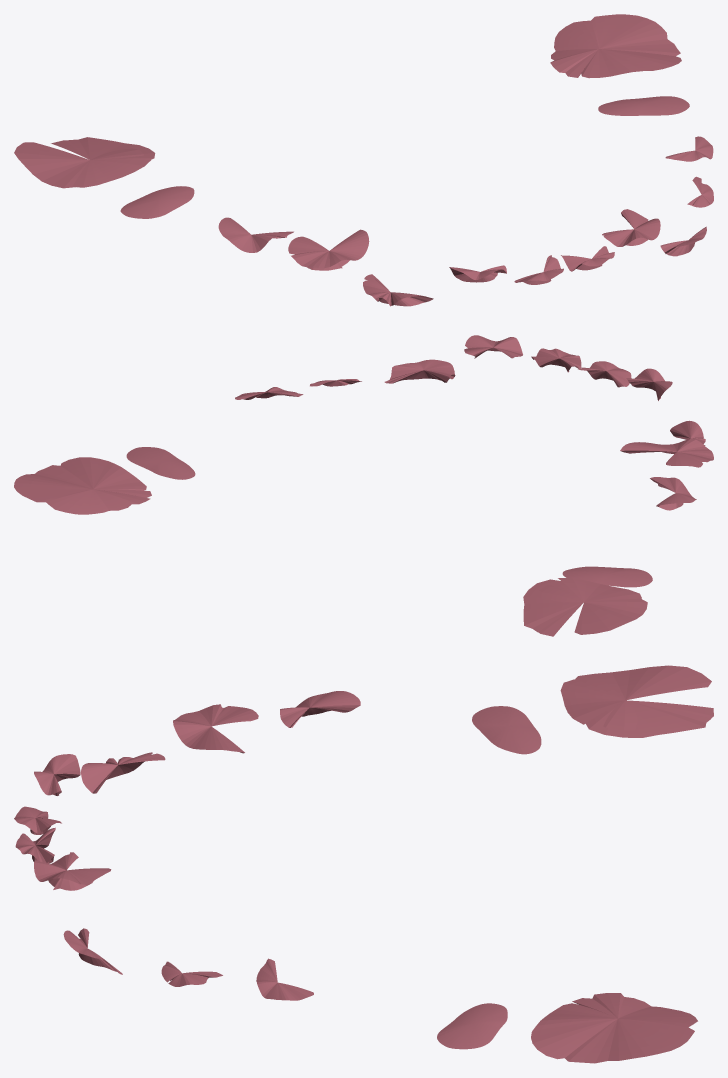
Rendered from lower_gingival_covers.glb.
3 views of the same model, one above another, from view 1: azimuth 30°, elevation 25°; view 2: azimuth 150°, elevation 25°; view 3: azimuth 270°, elevation 25° (orthographic). The views are drawn at different scales.
Parts seen in each view (by area): view 1: Cover_37, Cover_47, Cover_44, Cover_46, Cover_36, Cover_32, Cover_45, Cover_43, Cover_31, Cover_42, Cover_41, Cover_35 (+1 smaller); view 2: Cover_37, Cover_47, Cover_44, Cover_46, Cover_36, Cover_33, Cover_32, Cover_45, Cover_41, Cover_31, Cover_42, Cover_43; view 3: Cover_37, Cover_47, Cover_44, Cover_46, Cover_36, Cover_32, Cover_45, Cover_43, Cover_42, Cover_35, Cover_33, Cover_31 (+2 smaller).
Part boxes in pixels (box(x1,y1,x2,y2)): Cover_37: box(550, 14, 681, 78); Cover_47: box(14, 137, 155, 188); Cover_44: box(288, 229, 369, 270); Cover_46: box(120, 186, 194, 218); Cover_36: box(598, 96, 689, 115); Cover_32: box(602, 209, 660, 246); Cover_45: box(218, 217, 293, 252); Cover_43: box(363, 274, 433, 306); Cover_31: box(561, 246, 614, 271); Cover_42: box(449, 265, 506, 282); Cover_41: box(514, 255, 563, 284); Cover_35: box(665, 136, 713, 161); Cover_37: box(14, 457, 151, 514); Cover_47: box(523, 578, 647, 636); Cover_44: box(620, 438, 713, 467); Cover_46: box(562, 566, 652, 587); Cover_36: box(126, 447, 195, 479); Cover_33: box(384, 359, 455, 383); Cover_32: box(464, 335, 522, 358); Cover_45: box(650, 477, 696, 510); Cover_41: box(578, 361, 631, 387); Cover_31: box(531, 348, 581, 372); Cover_42: box(626, 368, 672, 400); Cover_43: box(670, 420, 705, 445); Cover_37: box(531, 993, 697, 1063); Cover_47: box(560, 665, 713, 737); Cover_44: box(173, 704, 258, 753); Cover_46: box(472, 706, 541, 754); Cover_36: box(437, 1003, 507, 1049); Cover_32: box(34, 852, 111, 890); Cover_45: box(280, 691, 360, 727); Cover_43: box(81, 752, 165, 793); Cover_42: box(34, 754, 80, 795); Cover_35: box(256, 958, 313, 1000); Cover_33: box(63, 928, 122, 974); Cover_31: box(15, 827, 55, 863).
Size of the model in its own units: 58.03 by 4.16 by 45.1.
